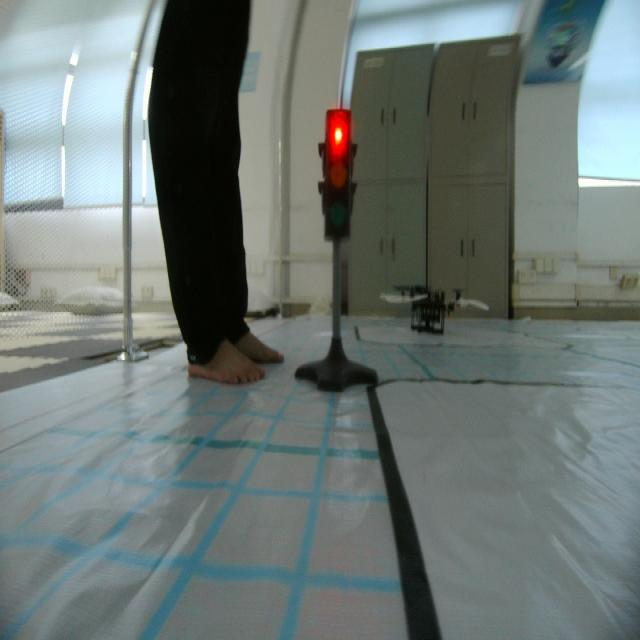red: (318, 101, 360, 248)
